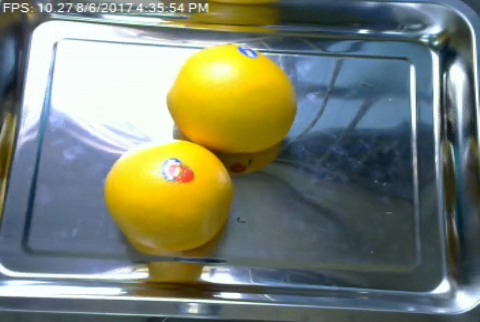Orange: (103, 138, 232, 249), (166, 44, 296, 152)
